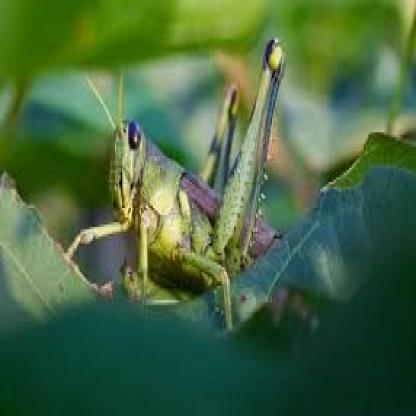grasshopper: (63, 37, 300, 328)
